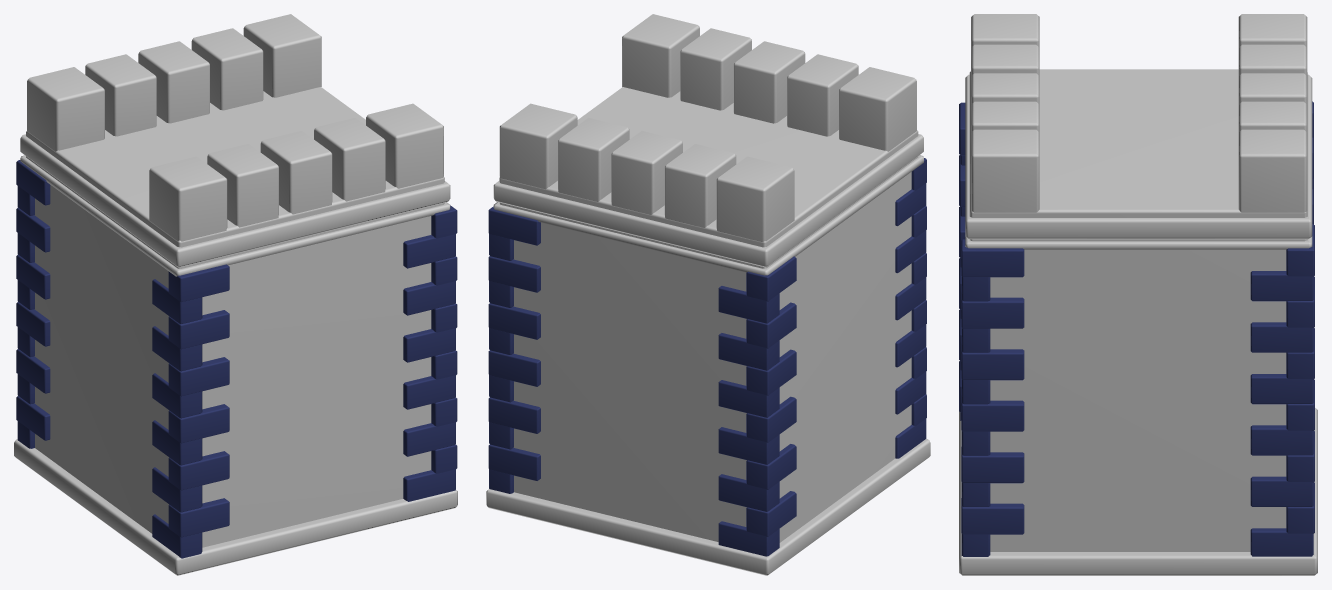
The model's file is straight.fbx.
The picture shows the model from 3 angles, left to right: view 1: azimuth 30°, elevation 25°; view 2: azimuth 150°, elevation 25°; view 3: azimuth 270°, elevation 25°; orthographic projection. The views are drawn at different scales.
Parts seen in each view (by area): view 1: straight; view 2: straight; view 3: straight.
Boxes of the visible parts, x1,y1,x2,y2 form: straight: (14,14,457,575); straight: (486,14,930,575); straight: (959,14,1317,575).
Size of the model in its own units: 414 by 534 by 416.
